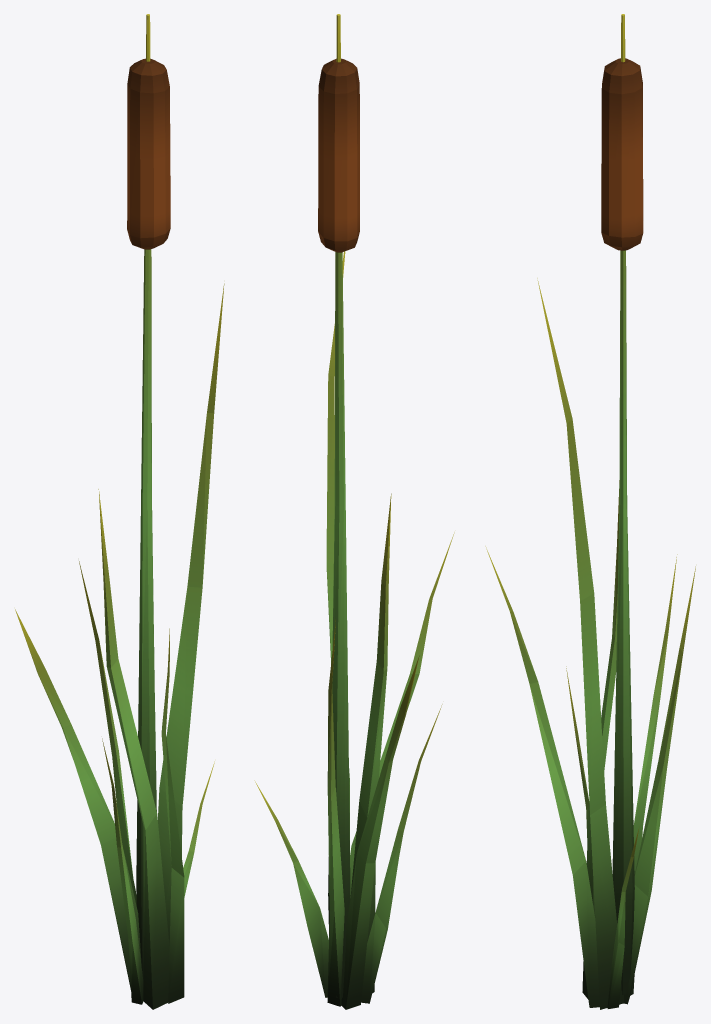
File: PondReed-02.FBX
The picture shows the model from 3 angles, left to right: view 1: azimuth 30°, elevation 25°; view 2: azimuth 150°, elevation 25°; view 3: azimuth 270°, elevation 25°; orthographic projection.
Parts seen in each view (by area): view 1: PondReed-02; view 2: PondReed-02; view 3: PondReed-02.
Boxes of the visible parts, x1,y1,x2,y2 form: PondReed-02: (15, 14, 224, 1009); PondReed-02: (254, 14, 454, 1009); PondReed-02: (485, 14, 695, 1009).
Size of the model in its own units: 44.89 by 229 by 44.61.
Materials: 1 (1 with a texture image).
